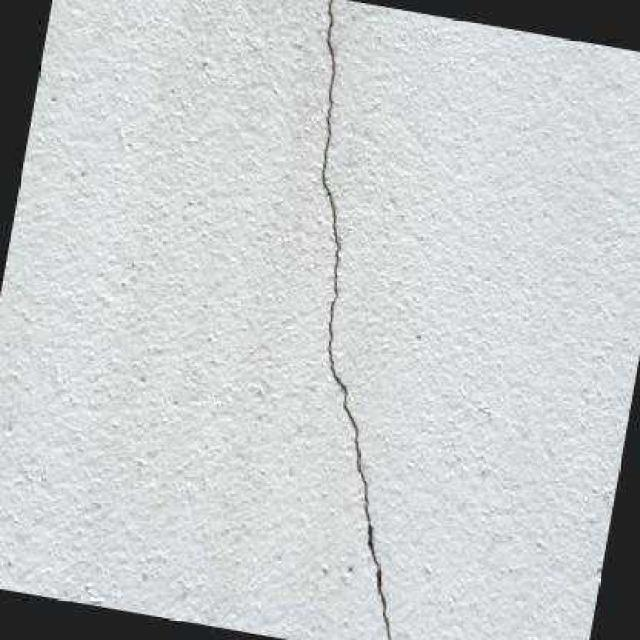D00: (319, 0, 393, 640)
